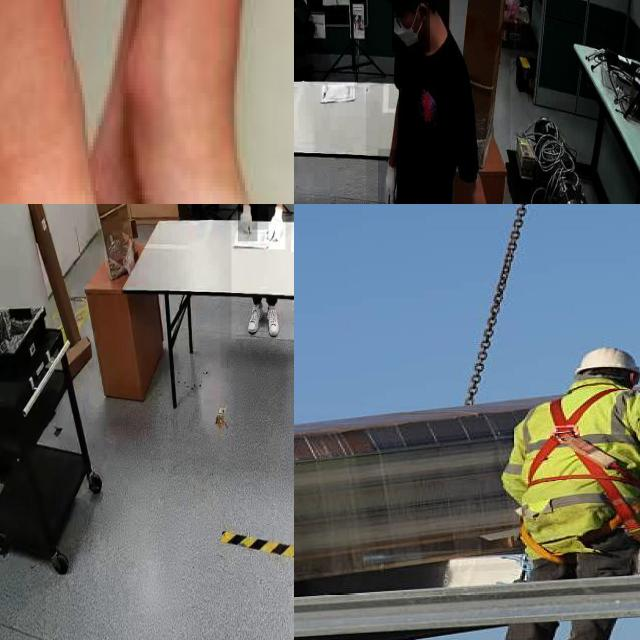Barefoots: (0, 145, 294, 204)
Harness: (515, 383, 640, 561)
face_mask: (392, 0, 430, 51)
hand_glove: (378, 148, 401, 204), (268, 207, 286, 250), (238, 204, 258, 242)
person: (366, 0, 511, 204), (231, 204, 294, 339)
shoes: (244, 293, 264, 335), (264, 295, 280, 341)
